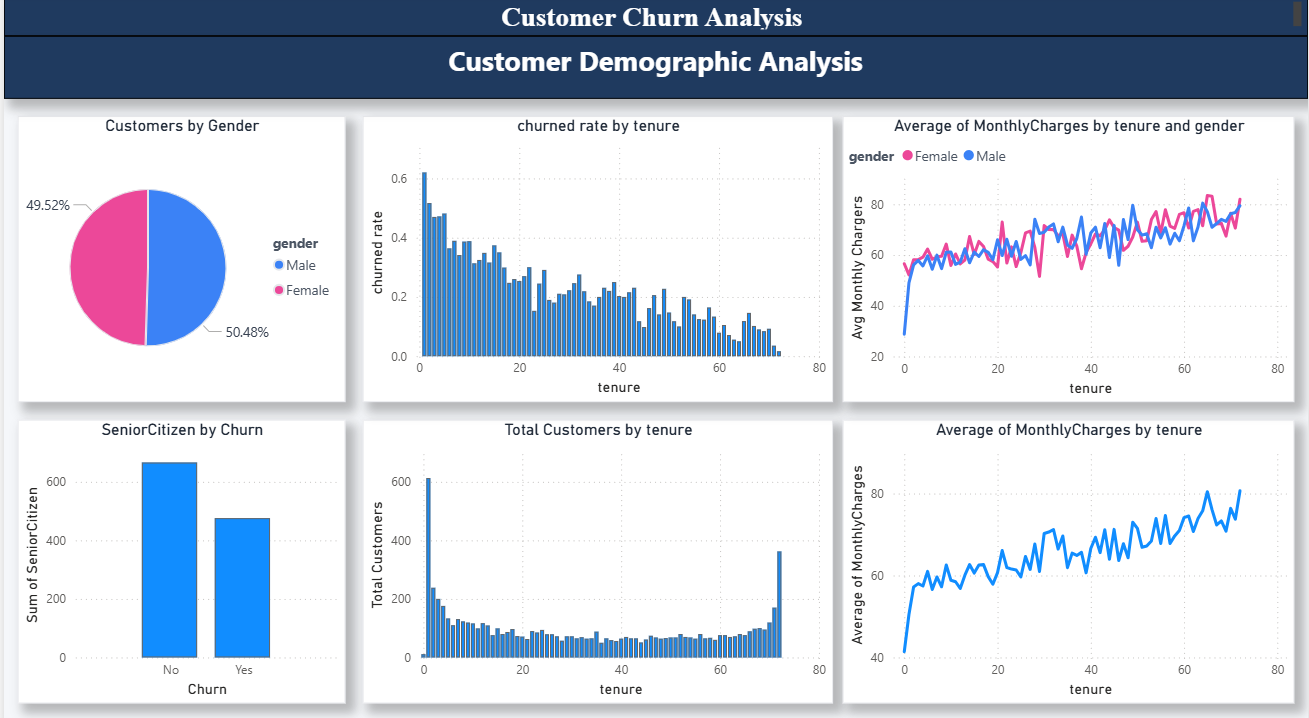

What the dashboard file says about the page in this screenshot:
{"tool":"powerbi","page":{"name":"Customer Demographics","canvas":[1280,720],"ordinal":0},"visuals":[{"type":"textbox","box":[0,0,1279.8,39.3],"z":0},{"type":"pieChart","title":"Customers by Gender","fields":{"Y":["Count(WA_Fn-UseC_-Telco-Customer-Churn (1).customerID)"],"Category":["WA_Fn-UseC_-Telco-Customer-Churn (1).gender"]},"box":[13.5,117.8,321.5,281],"z":1000},{"type":"clusteredColumnChart","title":"SeniorCitizen by Churn","fields":{"Category":["WA_Fn-UseC_-Telco-Customer-Churn (1).Churn"],"Y":["Sum(WA_Fn-UseC_-Telco-Customer-Churn (1).SeniorCitizen)"]},"box":[13.5,416,321.5,278.5],"z":2000},{"type":"clusteredColumnChart","fields":{"Category":["WA_Fn-UseC_-Telco-Customer-Churn (1).tenure"],"Y":["Telco-Customer-Churn.Total Customers"]},"box":[352.1,416,461.4,278.5],"z":3000},{"type":"clusteredColumnChart","fields":{"Category":["WA_Fn-UseC_-Telco-Customer-Churn (1).tenure"],"Y":["Telco-Customer-Churn.churned rate"]},"box":[352.1,117.8,461.4,281],"z":4000},{"type":"lineChart","fields":{"Category":["WA_Fn-UseC_-Telco-Customer-Churn (1).tenure"],"Y":["Avg(WA_Fn-UseC_-Telco-Customer-Churn (1).MonthlyCharges)"]},"box":[823.3,416,442.9,278.5],"z":5000},{"type":"lineChart","fields":{"Y":["Avg(WA_Fn-UseC_-Telco-Customer-Churn (1).MonthlyCharges)"],"Category":["WA_Fn-UseC_-Telco-Customer-Churn (1).tenure"],"Series":["WA_Fn-UseC_-Telco-Customer-Churn (1).gender"]},"box":[823.3,117.8,442.9,281],"z":6000},{"type":"textbox","box":[0,39.3,1279.8,61.4],"z":7000}]}

Visuals, with their boxes in screenshot pixels (x1, y1, x2, y2), scaled from the page's 1280x720 canvas onto the 1309x718 screenshot:
textbox: l=0, t=0, r=1308, b=39
"Customers by Gender" pieChart: l=14, t=117, r=343, b=398
"SeniorCitizen by Churn" clusteredColumnChart: l=14, t=415, r=343, b=693
clusteredColumnChart - WA_Fn-UseC_-Telco-Customer-Churn (1).tenure x Telco-Customer-Churn.Total Customers: l=360, t=415, r=832, b=693
clusteredColumnChart - WA_Fn-UseC_-Telco-Customer-Churn (1).tenure x Telco-Customer-Churn.churned rate: l=360, t=117, r=832, b=398
lineChart - WA_Fn-UseC_-Telco-Customer-Churn (1).tenure x Avg(WA_Fn-UseC_-Telco-Customer-Churn (1).MonthlyCharges): l=842, t=415, r=1295, b=693
lineChart - Avg(WA_Fn-UseC_-Telco-Customer-Churn (1).MonthlyCharges) x WA_Fn-UseC_-Telco-Customer-Churn (1).tenure: l=842, t=117, r=1295, b=398
textbox: l=0, t=39, r=1308, b=100
